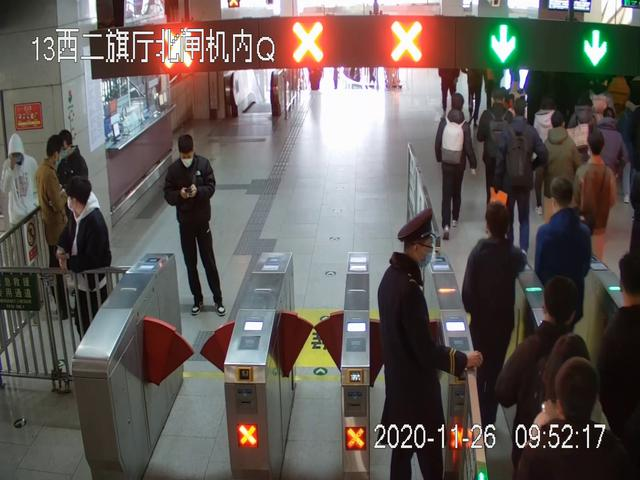person: (377, 209, 482, 480), (463, 203, 527, 448), (164, 134, 228, 317), (535, 178, 592, 373), (57, 177, 113, 368), (495, 97, 547, 256), (572, 132, 619, 272), (435, 93, 476, 239), (2, 133, 39, 293), (543, 111, 582, 237)
